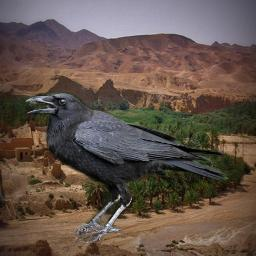Crow: (25, 92, 229, 243)
